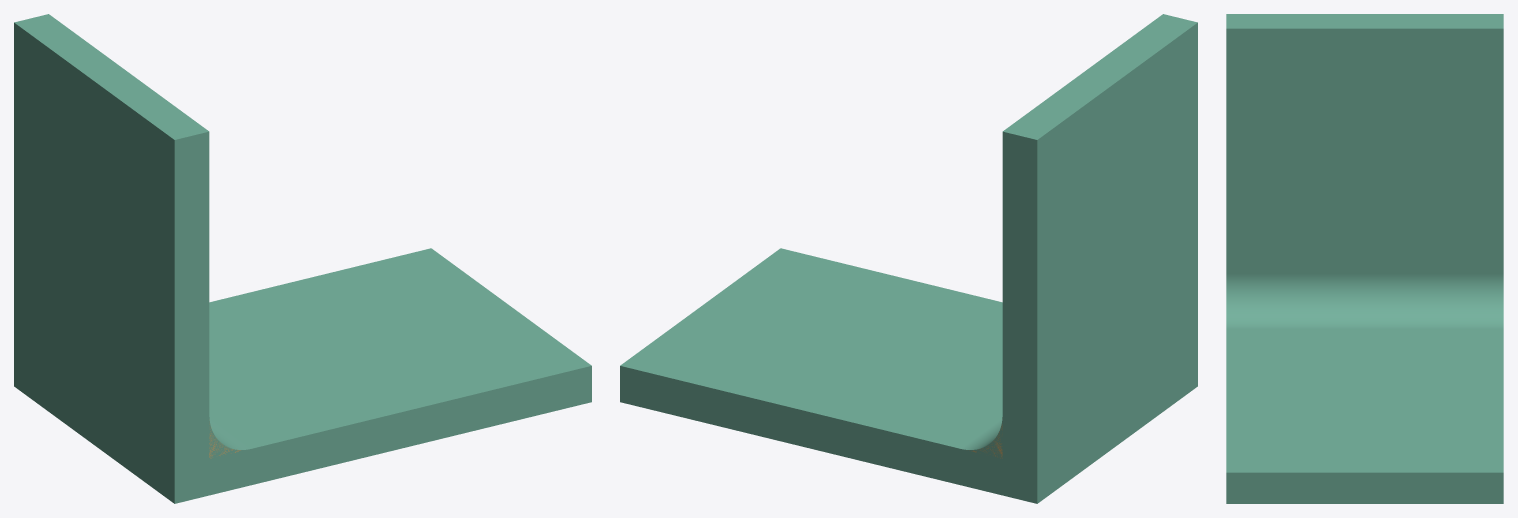
Rendered from step_03.glb.
The picture shows the model from 3 angles, left to right: view 1: azimuth 30°, elevation 25°; view 2: azimuth 150°, elevation 25°; view 3: azimuth 270°, elevation 25°; orthographic projection. The views are drawn at different scales.
Parts seen in each view (by area): view 1: part__L bracket; view 2: part__L bracket; view 3: part__L bracket.
Boxes of the visible parts, x1,y1,x2,y2 form: part__L bracket: (14, 14, 591, 503); part__L bracket: (620, 14, 1197, 503); part__L bracket: (1226, 14, 1503, 503).
Size of the model in its own units: 60 by 50 by 40.
